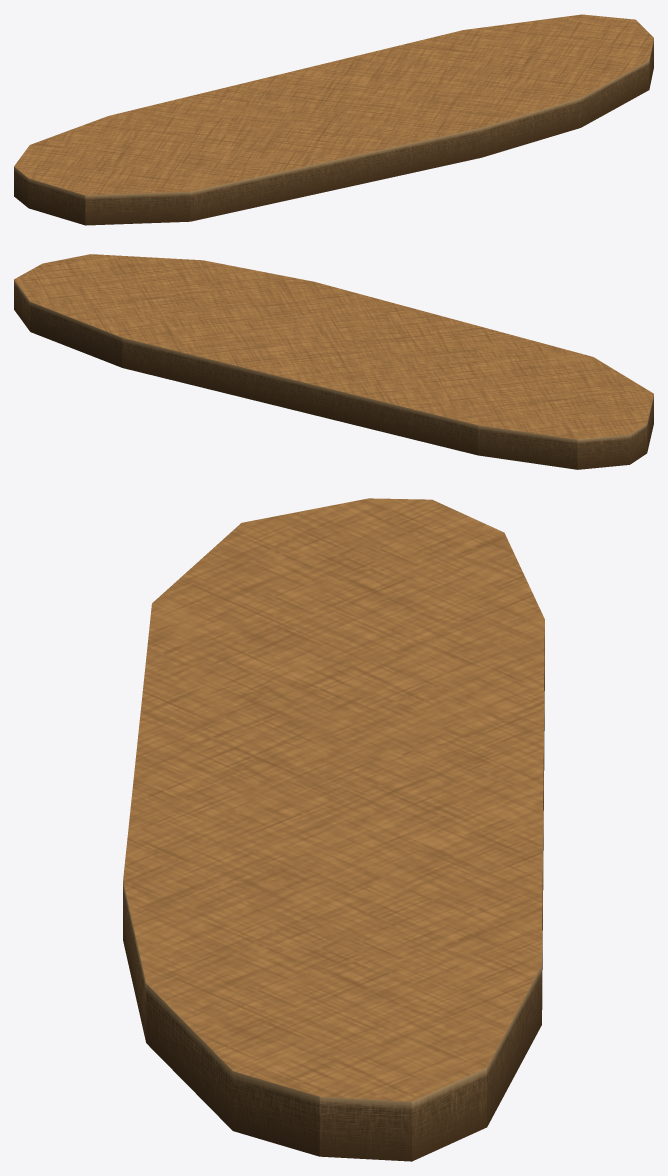
File: Terrain05_B.FBX
The picture shows the model from 3 angles, top to bottom: view 1: azimuth 30°, elevation 25°; view 2: azimuth 150°, elevation 25°; view 3: azimuth 270°, elevation 25°; orthographic projection. The views are drawn at different scales.
Visible parts, largest first — view 1: Terrain05_B; view 2: Terrain05_B; view 3: Terrain05_B.
Boxes of the visible parts, x1,y1,x2,y2 form: Terrain05_B: (14,14,653,225); Terrain05_B: (14,254,653,469); Terrain05_B: (123,498,544,1161).
Size of the model in its own units: 1091 by 50.55 by 322.
1 material, 1 textured.
